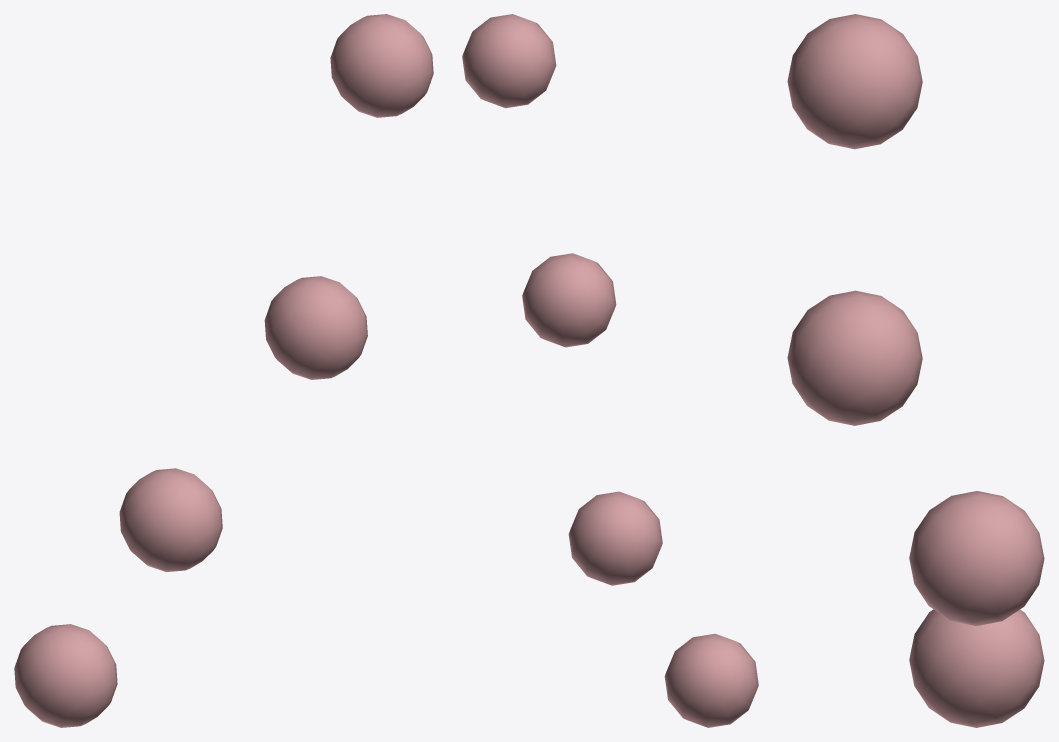
The picture shows the model from 3 angles, left to right: view 1: azimuth 30°, elevation 25°; view 2: azimuth 150°, elevation 25°; view 3: azimuth 270°, elevation 25°; orthographic projection. The views are drawn at different scales.
Parts seen in each view (by area): view 1: ZA_835f00535c9eebf8; view 2: ZA_835f00535c9eebf8; view 3: ZA_835f00535c9eebf8.
Part boxes in pixels (box(x1,y1,x2,y2)): ZA_835f00535c9eebf8: box(14, 14, 433, 727); ZA_835f00535c9eebf8: box(462, 14, 758, 727); ZA_835f00535c9eebf8: box(787, 14, 1044, 727).
Bounding box in the file's own units: 0.0102 × 0.0185 × 0.00494.
